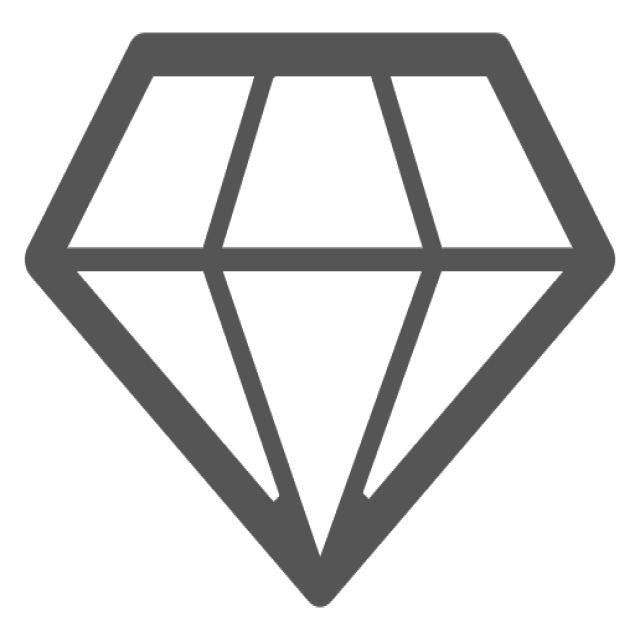diamond: (13, 28, 625, 619)
